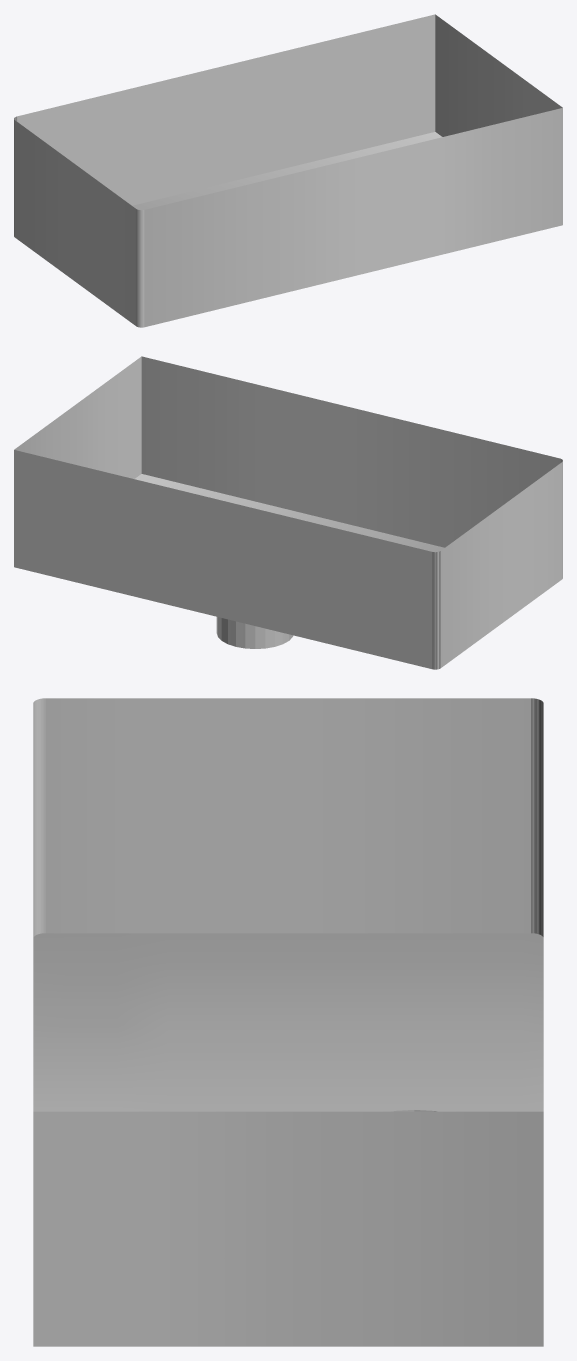
Rendered from kitchen_sink.glb.
3 views of the same model, one above another, from view 1: azimuth 30°, elevation 25°; view 2: azimuth 150°, elevation 25°; view 3: azimuth 270°, elevation 25° (orthographic). The views are drawn at different scales.
Parts seen in each view (by area): view 1: _(Loose Entity); view 2: _(Loose Entity); view 3: _(Loose Entity).
Part boxes in pixels (x1,y1,x2,y2): _(Loose Entity): [14, 14, 562, 327]; _(Loose Entity): [14, 356, 562, 669]; _(Loose Entity): [33, 698, 543, 1346].
Bounding box in the file's own units: 0.755 × 0.265 × 0.394.
Materials: 2 (1 with a texture image).
